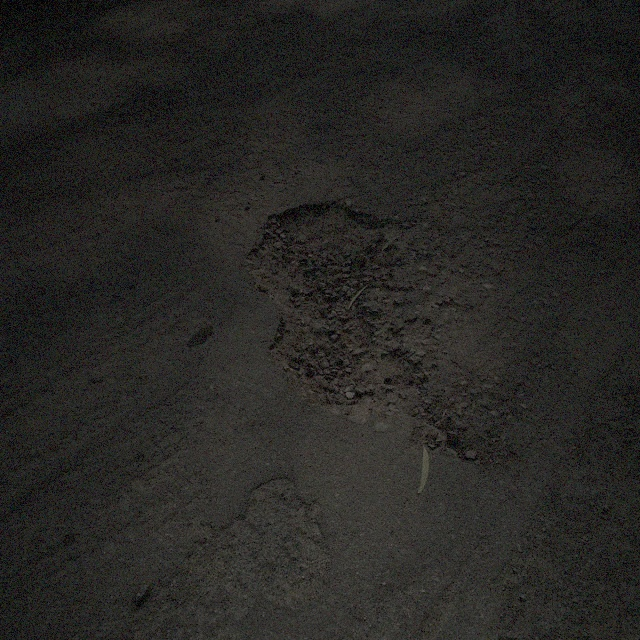pothole: (239, 198, 424, 423)
